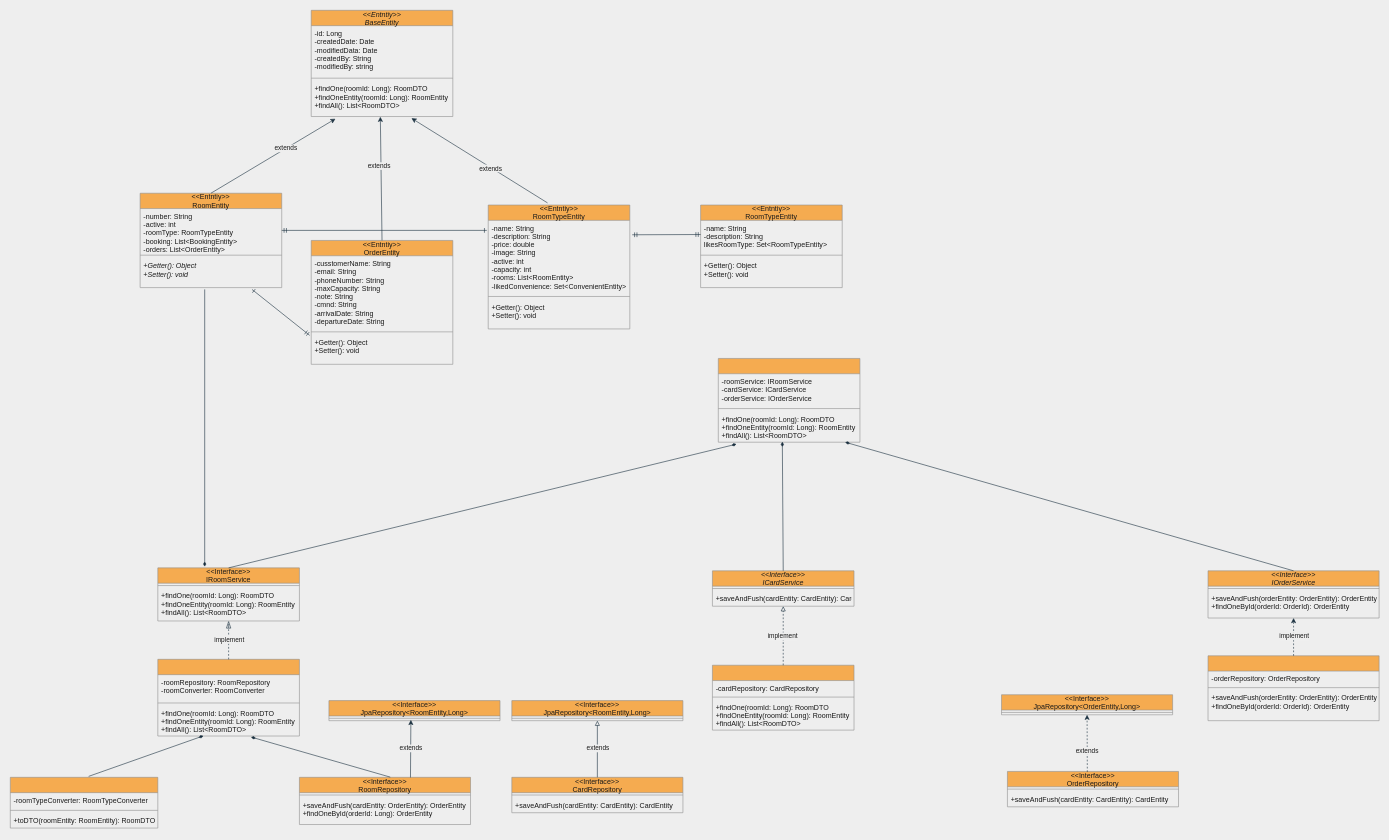
The diagram is 1389 pixels wide and 840 high, and some of its shapes have lost their labels. The box of each missing label's shape, as (x1, y1, x2, y2) in pixels:
BookingController: (718, 358, 860, 442)
CardService: (712, 665, 854, 730)
OrderService: (1207, 655, 1379, 721)
RoomConverter: (10, 777, 158, 828)
RoomService: (157, 659, 299, 736)
